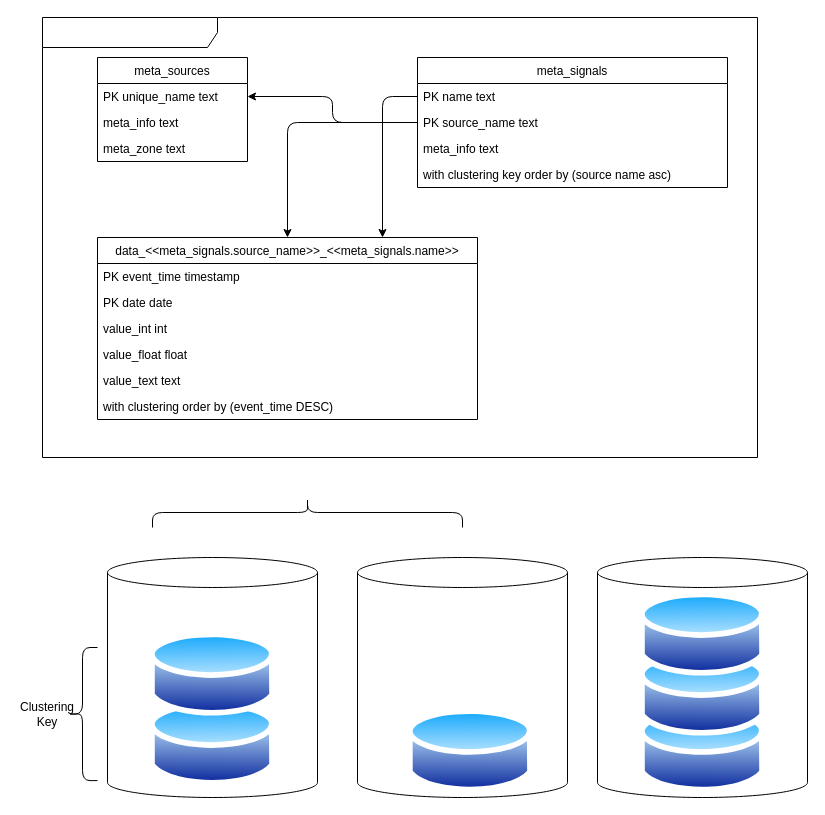
This 825x815 diagram has some shape labels left out. The centre of each missing label's shape, as x and y in pixels:
"Keyspace Database Schema" goes at point 400,237.
"Primary/Partitioning Key" goes at point 307,512.
